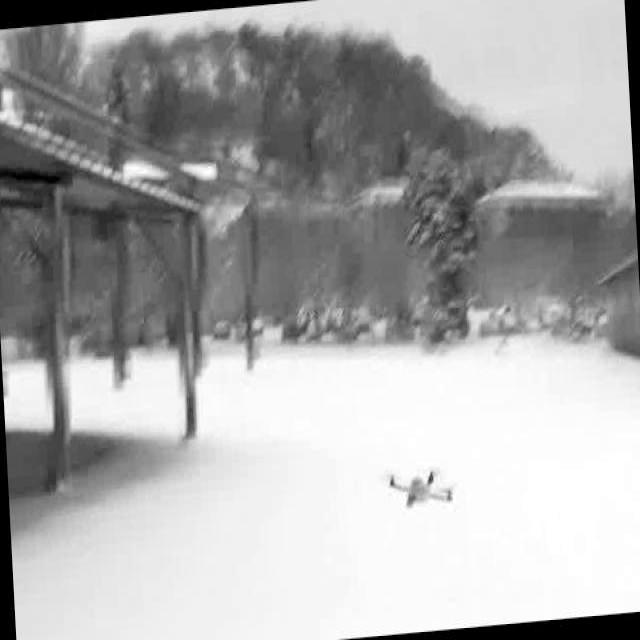drone: (384, 455, 464, 517)
